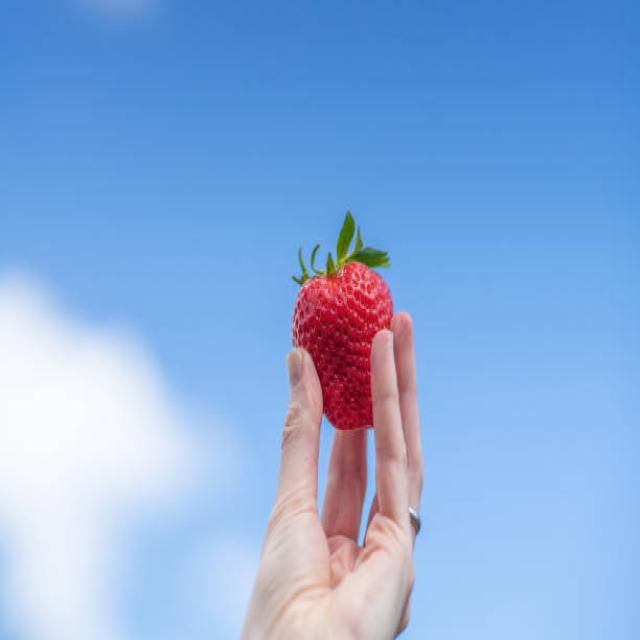Healthy Fruit: (291, 258, 393, 434)
